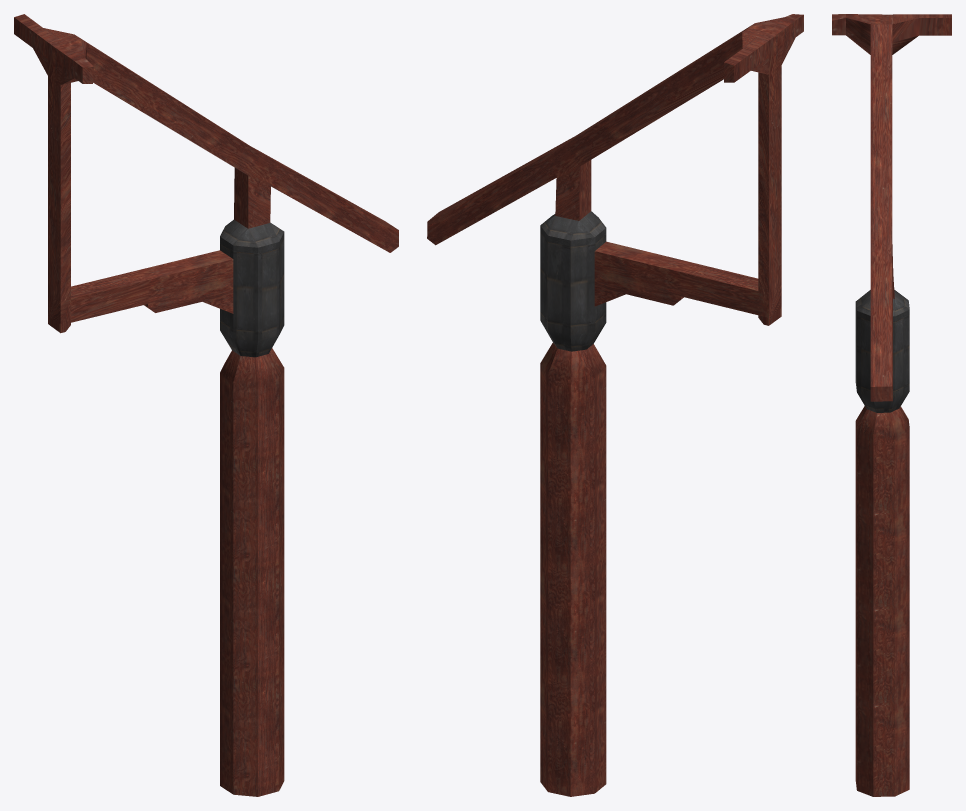
File: corridorBeam.fbx
3 renders of one model, left to right at view 1: azimuth 30°, elevation 25°; view 2: azimuth 150°, elevation 25°; view 3: azimuth 270°, elevation 25°, orthographic. The views are drawn at different scales.
Parts seen in each view (by area): view 1: pillar_altType17; view 2: pillar_altType17; view 3: pillar_altType17.
Boxes of the visible parts, left/top/right/bottom form: pillar_altType17: left=14, top=14, right=398, bottom=796; pillar_altType17: left=427, top=14, right=803, bottom=796; pillar_altType17: left=832, top=14, right=951, bottom=796.
Size of the model in its own units: 1.97 by 4.37 by 0.6908.
